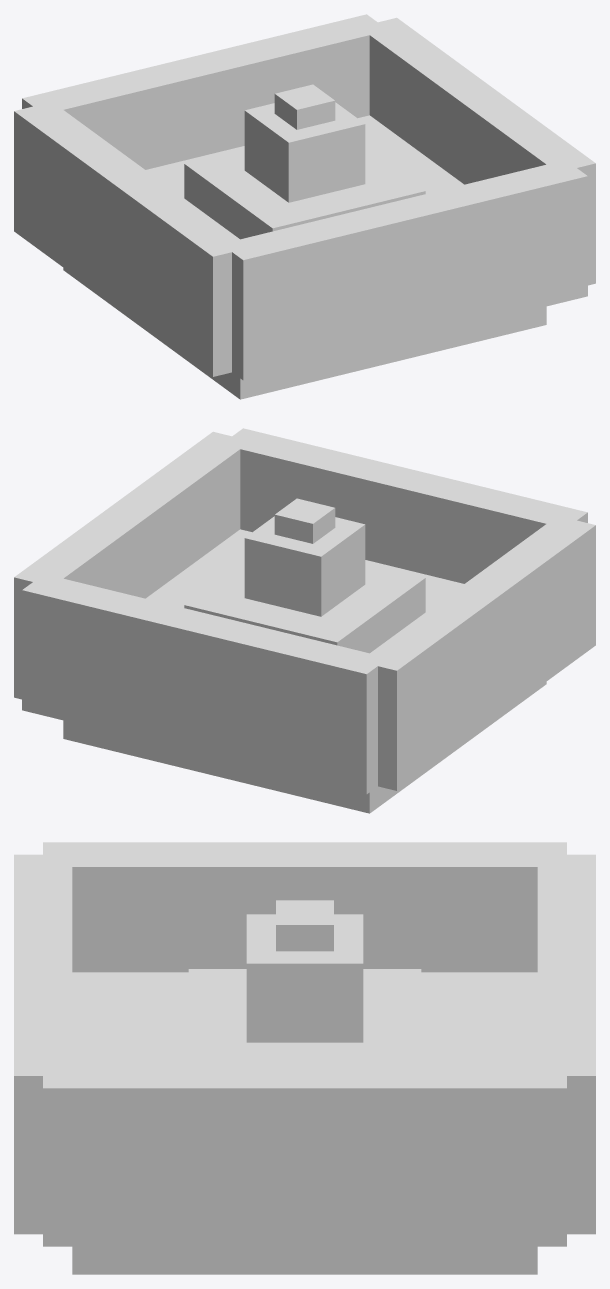
The model's file is fountain.obj.
The picture shows the model from 3 angles, top to bottom: view 1: azimuth 30°, elevation 25°; view 2: azimuth 150°, elevation 25°; view 3: azimuth 270°, elevation 25°; orthographic projection. The views are drawn at different scales.
Bounding box in the file's own units: 20 × 10 × 20.
Materials: 1 (1 with a texture image).
